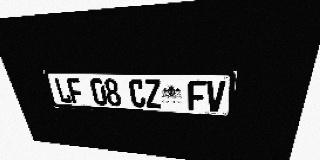0: (89, 78, 108, 106)
8: (103, 78, 122, 106)
C: (128, 79, 146, 108)
F: (188, 80, 206, 111), (66, 78, 85, 104)
L: (53, 78, 72, 104)
V: (206, 80, 226, 112)
Z: (144, 79, 162, 109)
